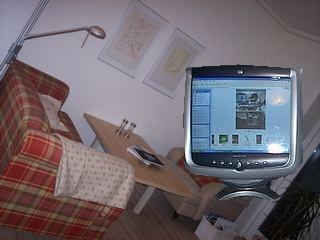tampered: (184, 65, 303, 200)
